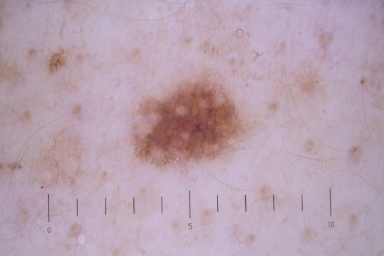nevus: (137, 79, 240, 164)
